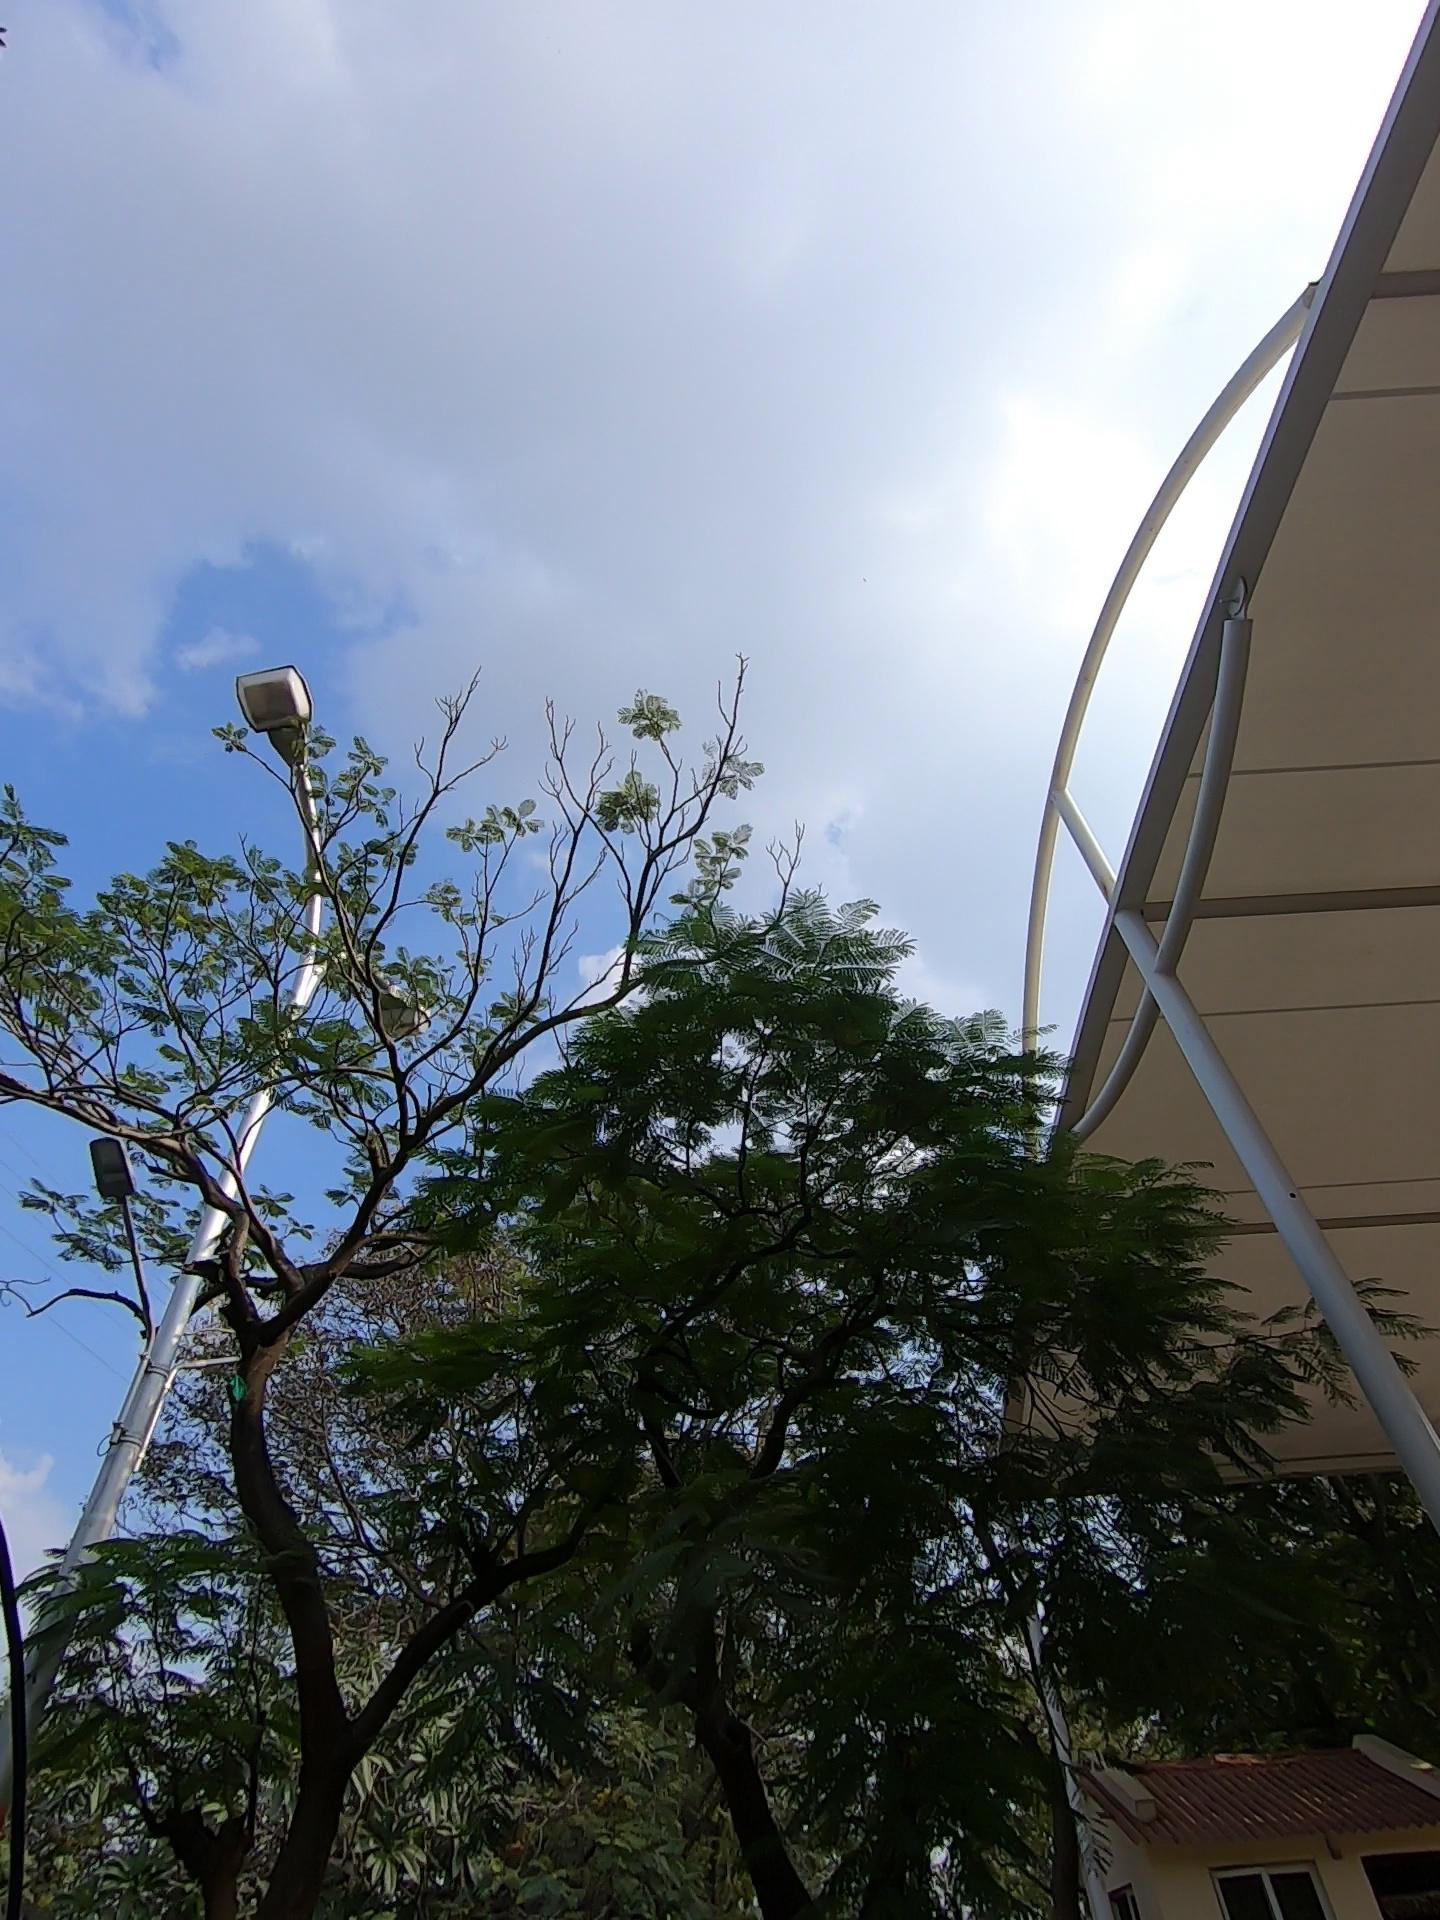off: (185, 611, 440, 1043)
